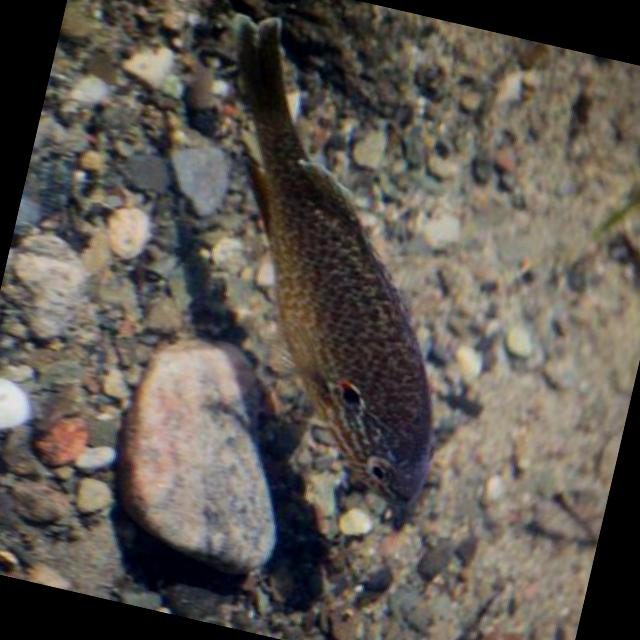Gunes Levregi: (122, 0, 527, 515)
